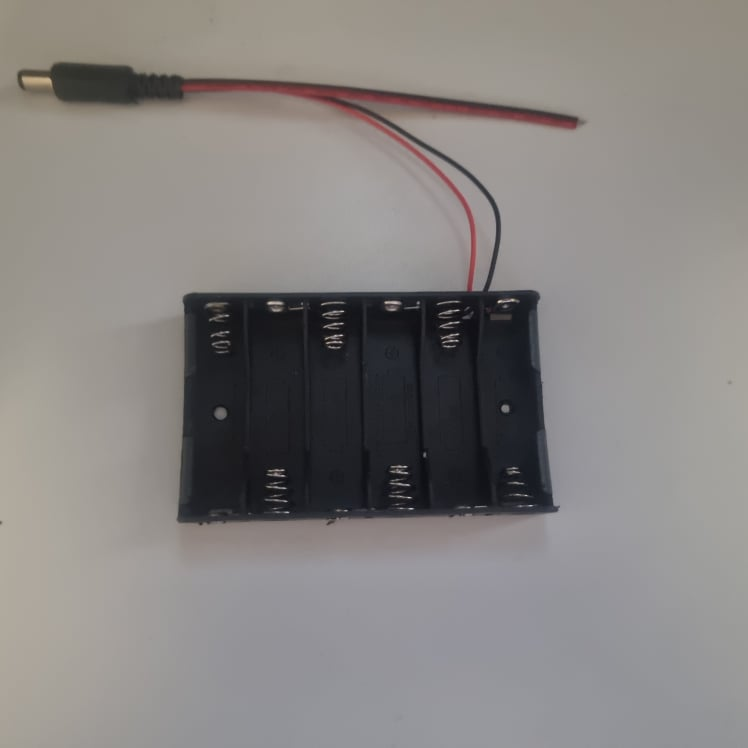BATTERY BOX: (175, 290, 560, 526)
